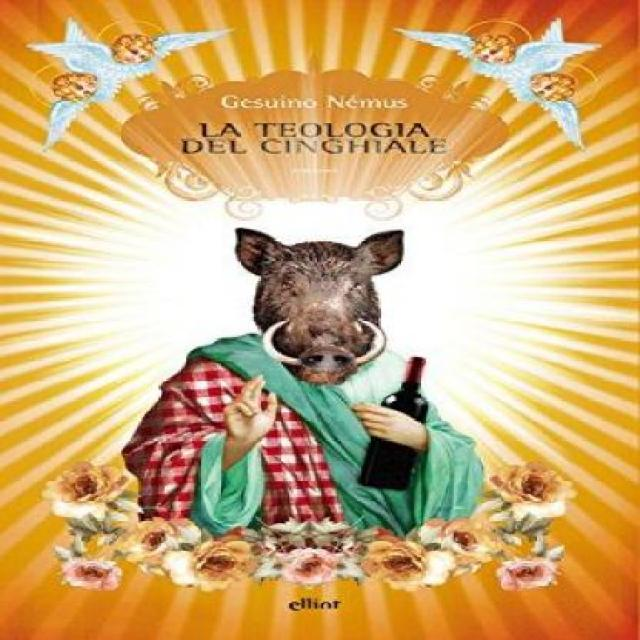wildboar: (235, 222, 410, 386)
